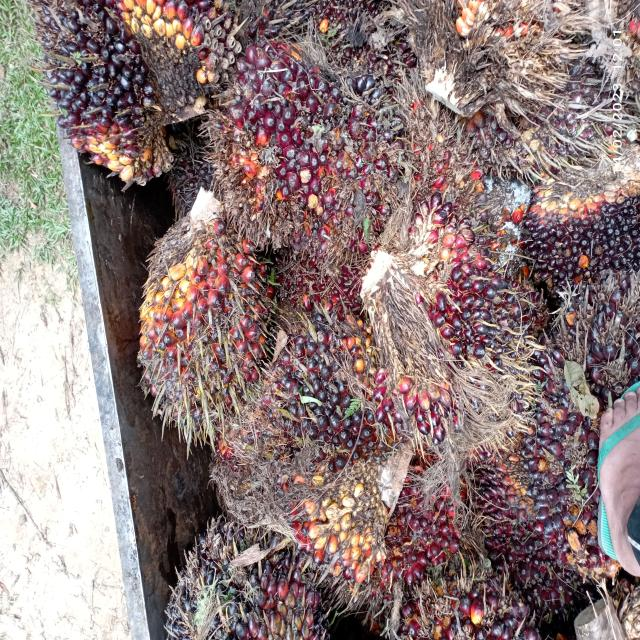fraksi 00: (223, 317, 425, 608), (35, 1, 237, 215), (512, 80, 640, 281)
fraksi 1: (355, 175, 520, 452), (130, 220, 286, 440), (205, 26, 368, 219)
